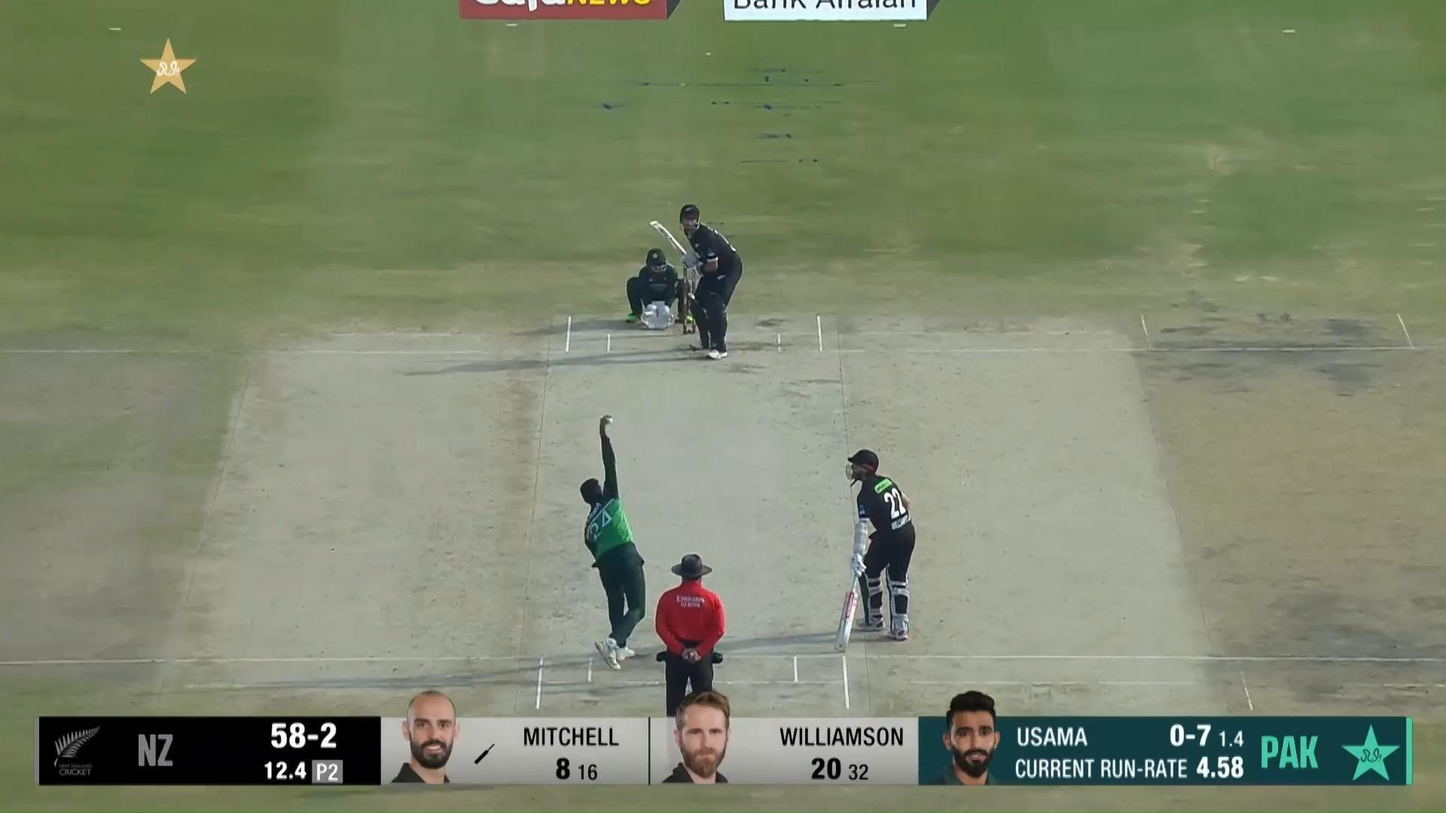BM 1: (648, 204, 743, 360)
BO: (577, 412, 648, 669)
